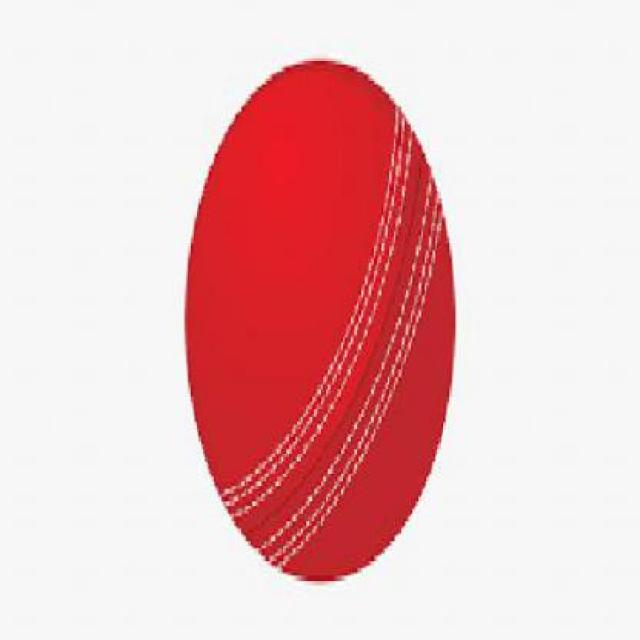ball: (159, 28, 479, 596)
